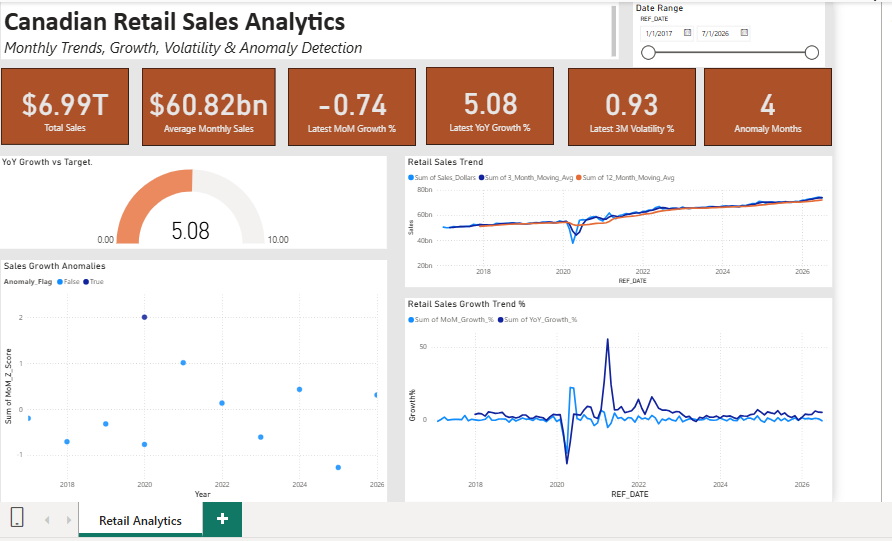

Layout of this report page (visuals, bound fields, positions):
{"tool":"powerbi","page":{"name":"Retail Analytics","canvas":[1500,900],"ordinal":0},"visuals":[{"type":"card","fields":{"Values":["monthly_sales_analysis.Total Sales"]},"box":[3.9,118.1,230.3,137.8],"z":0},{"type":"card","fields":{"Values":["monthly_sales_analysis.Average Monthly Sales"]},"box":[257.9,118.1,240.2,139.8],"z":1000},{"type":"card","fields":{"Values":["monthly_sales_analysis.Latest MoM Growth %"]},"box":[519.7,118.1,230.3,139.8],"z":2000},{"type":"card","fields":{"Values":["monthly_sales_analysis.Latest YoY Growth %"]},"box":[767.7,116.1,230.3,139.8],"z":3000},{"type":"card","fields":{"Values":["monthly_sales_analysis.Latest 3M Volatility %"]},"box":[1023.6,118.1,230.3,139.8],"z":4000},{"type":"card","fields":{"Values":["monthly_sales_analysis.Anomaly Months"]},"box":[1269.7,118.1,230.3,139.8],"z":5000},{"type":"lineChart","title":"Retail Sales Trend","fields":{"Y":["Sum(monthly_sales_analysis.Sales_Dollars)","Sum(monthly_sales_analysis.3_Month_Moving_Avg)","Sum(monthly_sales_analysis.12_Month_Moving_Avg)"],"Category":["monthly_sales_analysis.REF_DATE"]},"box":[730.8,277.2,768.6,235.8],"z":6000},{"type":"lineChart","title":"Retail Sales Growth Trend %","fields":{"Y":["Sum(monthly_sales_analysis.MoM_Growth_%)","Sum(monthly_sales_analysis.YoY_Growth_%)"],"Category":["monthly_sales_analysis.REF_DATE"]},"box":[730.8,532.8,768.6,367.2],"z":7000},{"type":"scatterChart","title":"Sales Growth Anomalies","fields":{"Y":["Sum(monthly_sales_analysis.MoM_Z_Score)"],"Series":["monthly_sales_analysis.Anomaly_Flag"],"X":["monthly_sales_analysis.REF_DATE.Variation.Date Hierarchy.Year","monthly_sales_analysis.REF_DATE.Variation.Date Hierarchy.Quarter","monthly_sales_analysis.REF_DATE.Variation.Date Hierarchy.Month","monthly_sales_analysis.REF_DATE.Variation.Date Hierarchy.Day"]},"box":[3.6,464.4,639,435.6],"z":8000},{"type":"slicer","title":"Date Range","fields":{"Values":["monthly_sales_analysis.REF_DATE"]},"box":[1141.2,0,343.8,117],"z":9000},{"type":"gauge","title":"YoY Growth vs Target.","fields":{"Y":["monthly_sales_analysis.Latest YoY Growth %"],"TargetValue":["Sum(monthly_sales_analysis.YoY_Growth_%)"]},"box":[3.6,277.2,334.8,167.4],"z":10000},{"type":"textbox","box":[3.6,0,1067.4,99],"z":11000}]}

Visuals, with their boxes on the page's 1500x900 design canvas (x1, y1, x2, y2). These are canvas units, not pixel positions in the 892x541 screenshot, which may show the page scaled, cropped or inside an application window:
card - monthly_sales_analysis.Total Sales: 4/118/234/256
card - monthly_sales_analysis.Average Monthly Sales: 258/118/498/258
card - monthly_sales_analysis.Latest MoM Growth %: 520/118/750/258
card - monthly_sales_analysis.Latest YoY Growth %: 768/116/998/256
card - monthly_sales_analysis.Latest 3M Volatility %: 1024/118/1254/258
card - monthly_sales_analysis.Anomaly Months: 1270/118/1500/258
"Retail Sales Trend" lineChart: 731/277/1499/513
"Retail Sales Growth Trend %" lineChart: 731/533/1499/900
"Sales Growth Anomalies" scatterChart: 4/464/643/900
"Date Range" slicer: 1141/0/1485/117
"YoY Growth vs Target." gauge: 4/277/338/445
textbox: 4/0/1071/99
